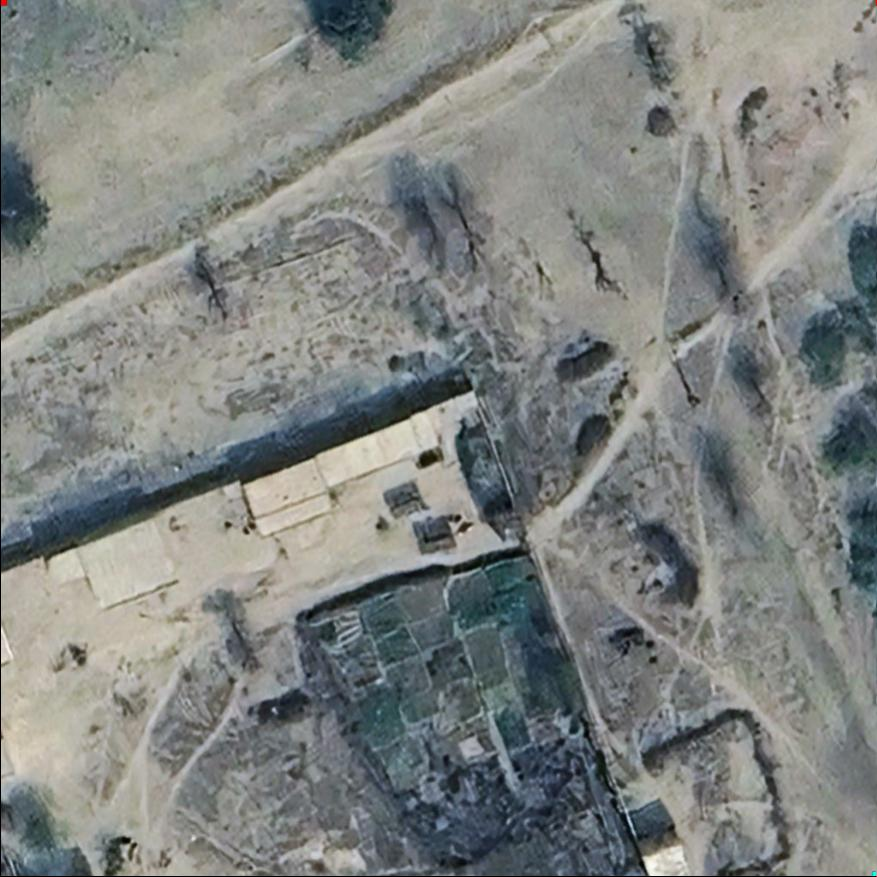Solarpanel: (415, 530, 458, 559), (385, 495, 428, 521)
